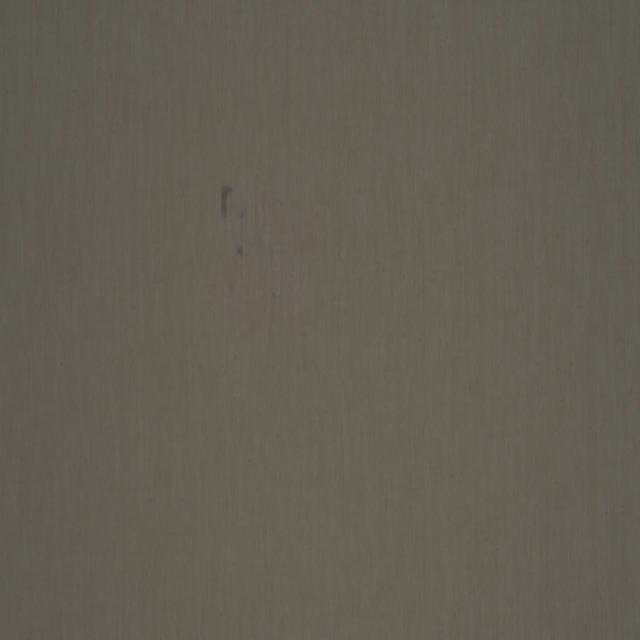dirty: (219, 178, 232, 222), (236, 246, 244, 262)
